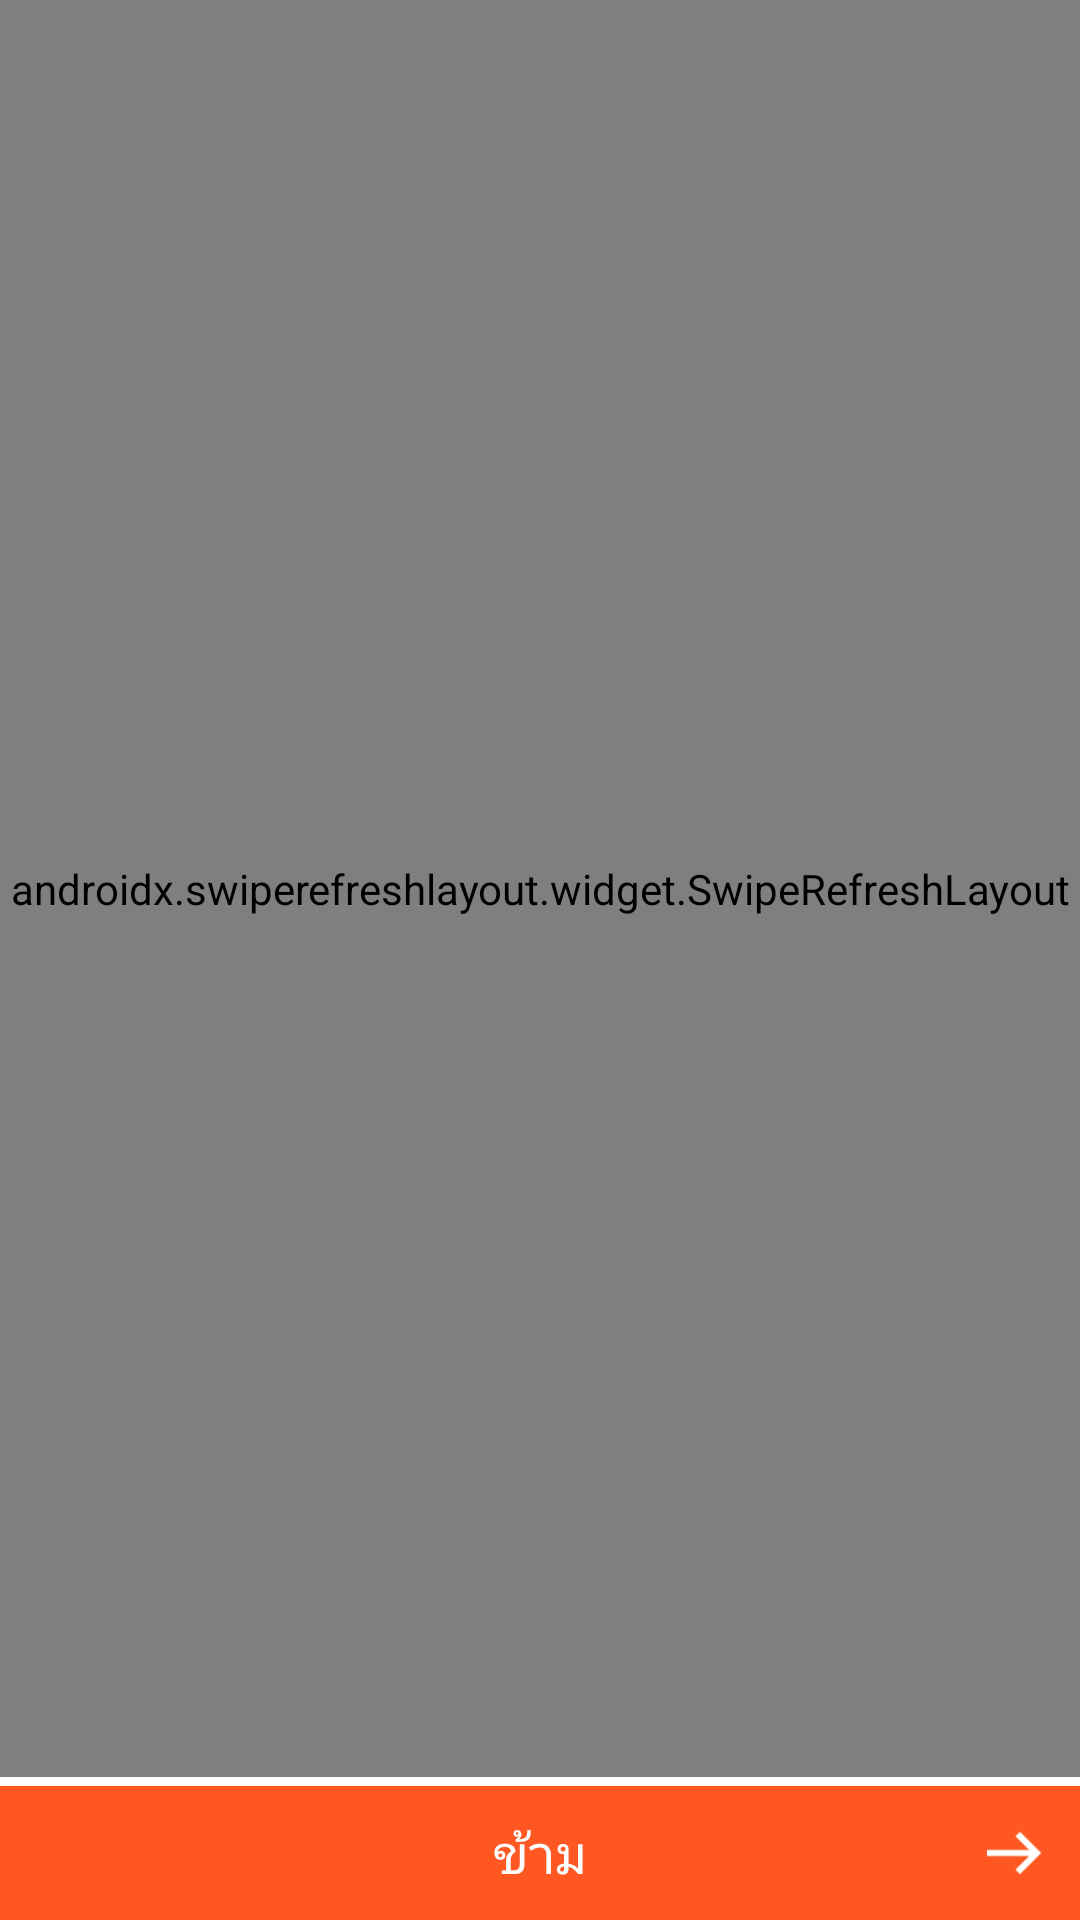

Icon bounding boxes for this 1080 x 1920 phone screenshot, format rect(x1, y1, x2, y2):
right: rect(987, 1831, 1041, 1875)
